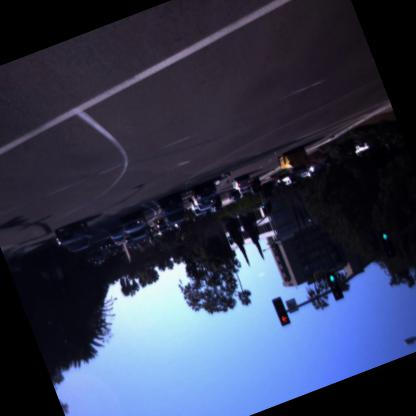trafficlight: (266, 291, 294, 332), (320, 263, 348, 304), (377, 223, 399, 256)
